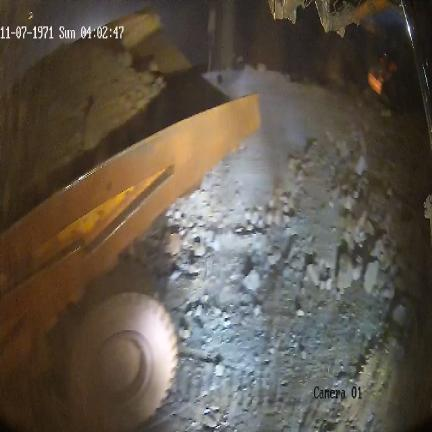pile: (131, 76, 426, 337), (13, 41, 177, 216)
